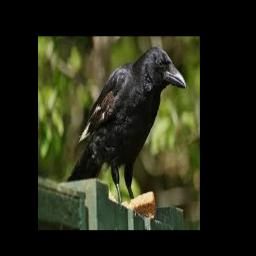Crow: (64, 46, 186, 208)
